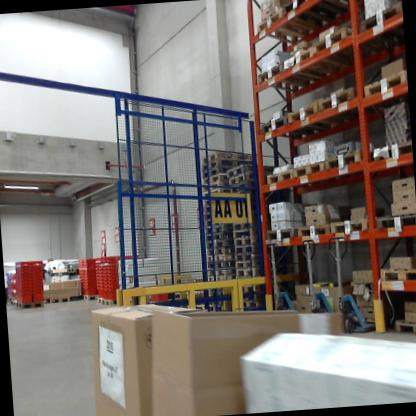pallet: (314, 22, 382, 75), (255, 57, 327, 102), (317, 81, 382, 130), (255, 107, 325, 152), (253, 4, 319, 49), (281, 41, 351, 82), (360, 68, 410, 118), (358, 2, 405, 51), (286, 100, 348, 133), (283, 0, 345, 32), (324, 144, 373, 176), (199, 146, 267, 164), (329, 213, 374, 239), (378, 262, 416, 288), (226, 168, 273, 188), (310, 0, 366, 16), (374, 211, 416, 232), (371, 141, 411, 163), (264, 220, 296, 247), (225, 163, 271, 180), (228, 179, 272, 196), (263, 167, 298, 188), (295, 221, 331, 241), (292, 163, 326, 183), (205, 288, 232, 313), (199, 158, 252, 170), (97, 293, 132, 311), (199, 165, 252, 176), (391, 317, 416, 339), (234, 279, 268, 293), (17, 296, 46, 312), (234, 268, 267, 282), (232, 217, 267, 230), (232, 225, 267, 238), (202, 222, 239, 234), (233, 252, 265, 264), (198, 190, 239, 199), (235, 291, 261, 305), (199, 174, 232, 185), (232, 236, 264, 247), (234, 260, 266, 271), (205, 268, 240, 278), (202, 239, 236, 249), (203, 231, 236, 241), (205, 276, 237, 286), (205, 253, 236, 263), (206, 261, 240, 270), (202, 247, 236, 256), (199, 183, 232, 192), (232, 245, 264, 254), (202, 217, 238, 225), (76, 293, 100, 304), (203, 198, 227, 208), (237, 303, 262, 312), (48, 295, 70, 305), (147, 300, 174, 308), (49, 267, 69, 277), (202, 212, 223, 219), (67, 263, 79, 275), (204, 207, 221, 213), (7, 300, 17, 309)
pallet_truck: (326, 227, 385, 339), (298, 231, 338, 329), (261, 234, 306, 317)
small_load_carrier: (13, 289, 33, 307), (77, 286, 98, 299), (102, 285, 119, 300), (32, 291, 47, 303), (94, 287, 106, 301)
